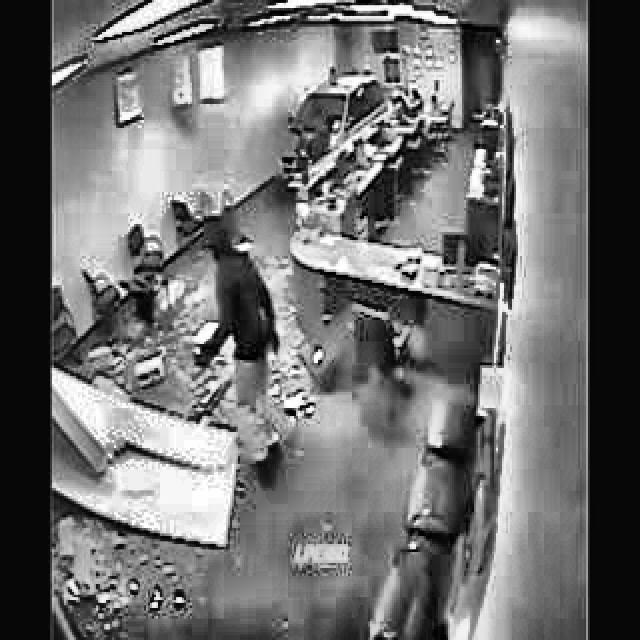burglary: (180, 210, 288, 495), (268, 62, 411, 196)
